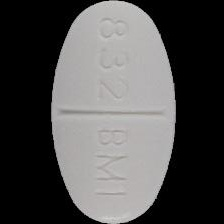52125-330: (0, 0, 224, 224)
